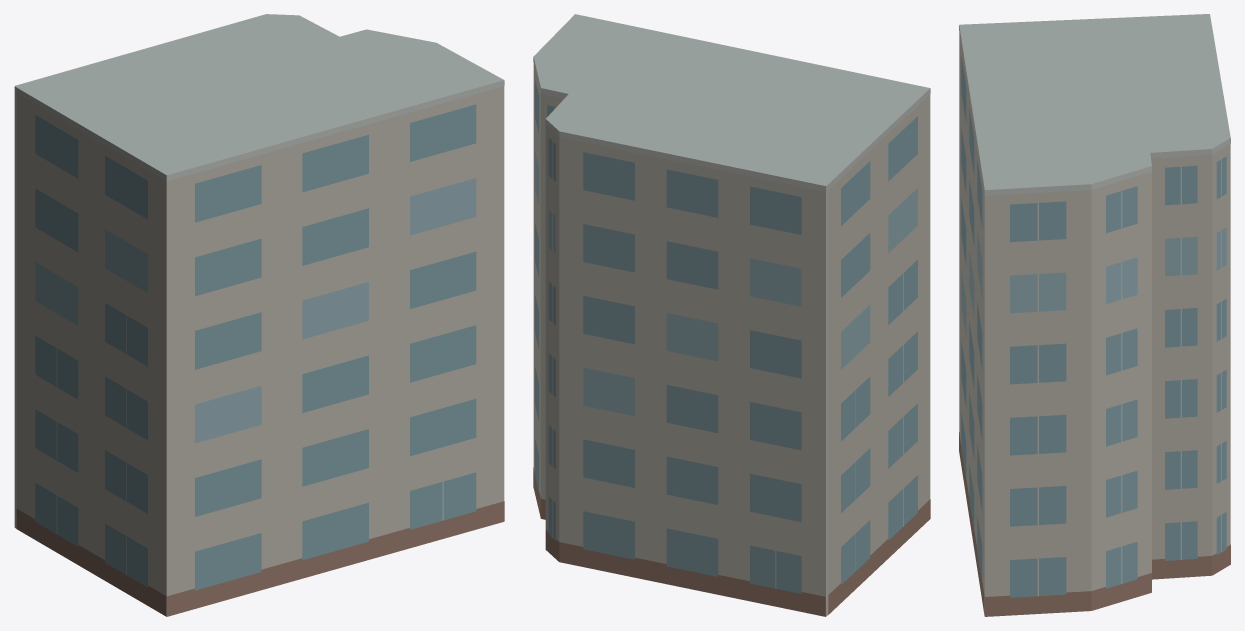
The model's file is survey-upis-32990765.glb.
3 views of the same model, side by side, from view 1: azimuth 30°, elevation 25°; view 2: azimuth 150°, elevation 25°; view 3: azimuth 270°, elevation 25° (orthographic). The views are drawn at different scales.
Visible parts, largest first — view 1: survey-upis-32990765.tmp; view 2: survey-upis-32990765.tmp; view 3: survey-upis-32990765.tmp.
Part boxes in pixels (x1,y1,x2,y2): survey-upis-32990765.tmp: (14, 14, 504, 616); survey-upis-32990765.tmp: (533, 14, 930, 616); survey-upis-32990765.tmp: (959, 14, 1230, 616).
Bounding box in the file's own units: 16.21 × 18.3 × 10.56.
